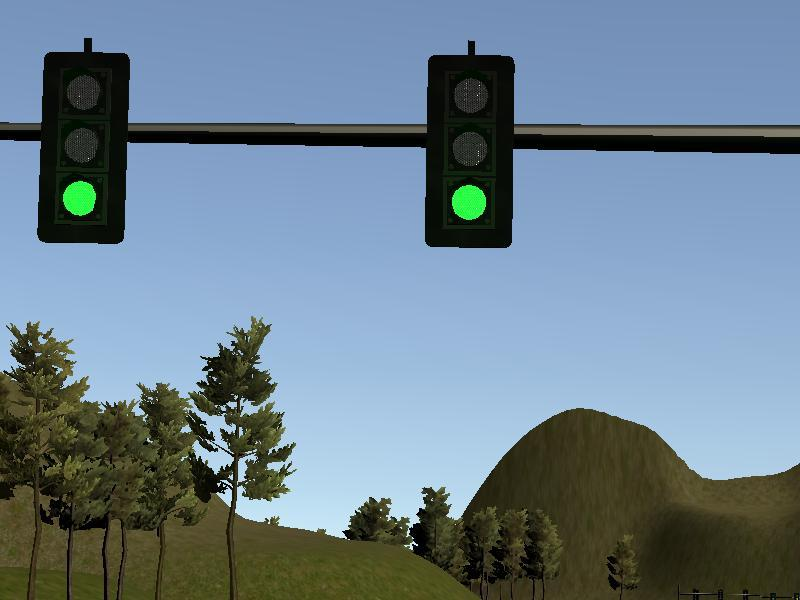Green: (424, 54, 513, 247), (41, 53, 127, 243)
